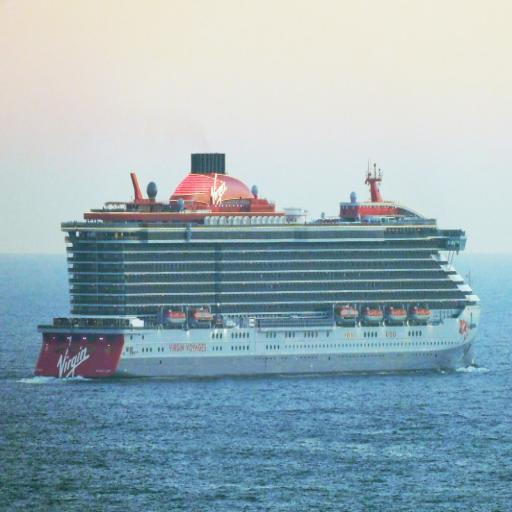cruises: (31, 148, 486, 385)
